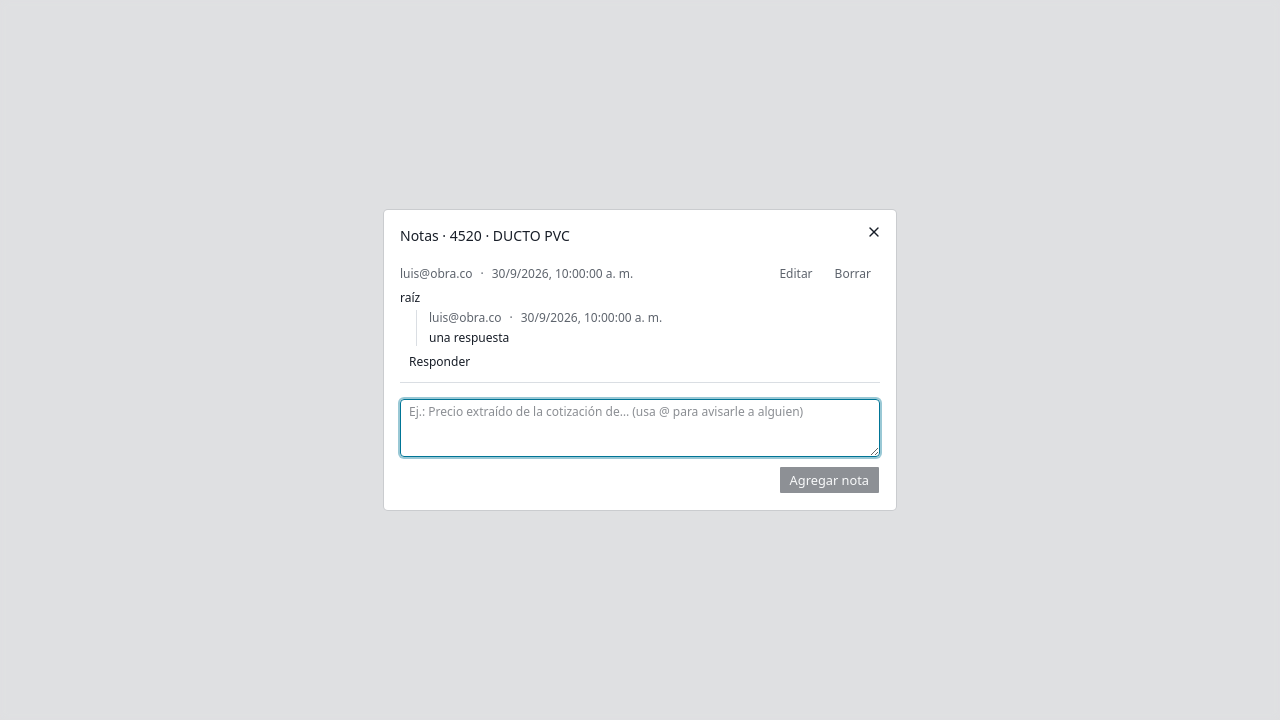
Test: DialogoNotas › muestra las respuestas bajo su nota y permite responder
Expected: the text "una respuesta" is shown, [429, 329, 509, 346]
Click the button "Responder" at (440, 362), box [400, 350, 479, 374]
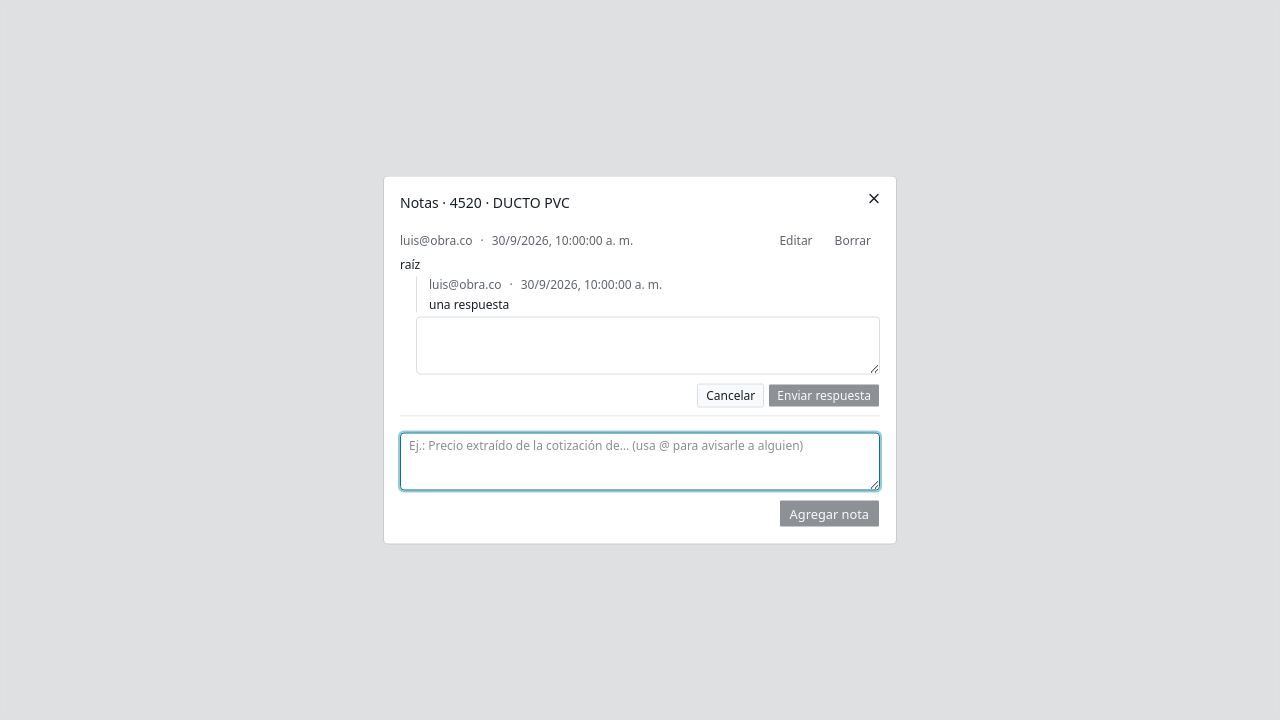
Type "otra respuesta" into the text box named "Responder nota" at (648, 346), box [416, 316, 880, 374]
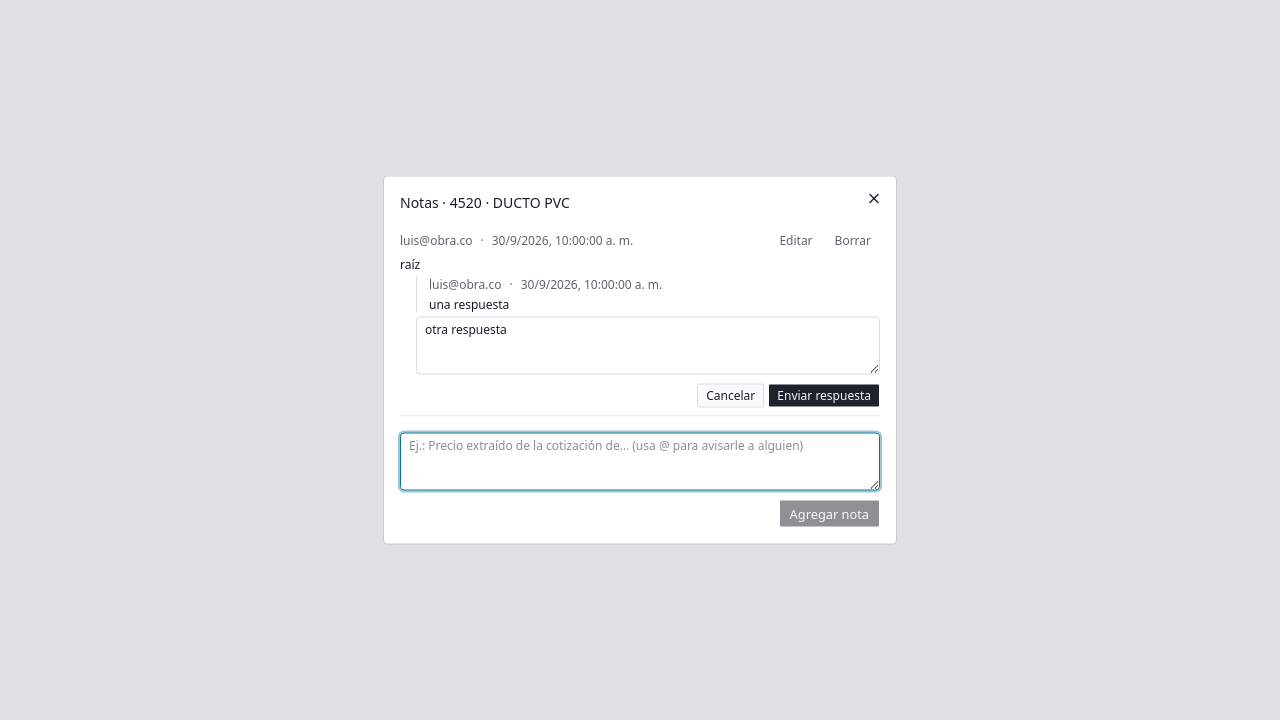
Click the button "Enviar respuesta" at (824, 396), box [768, 384, 880, 408]
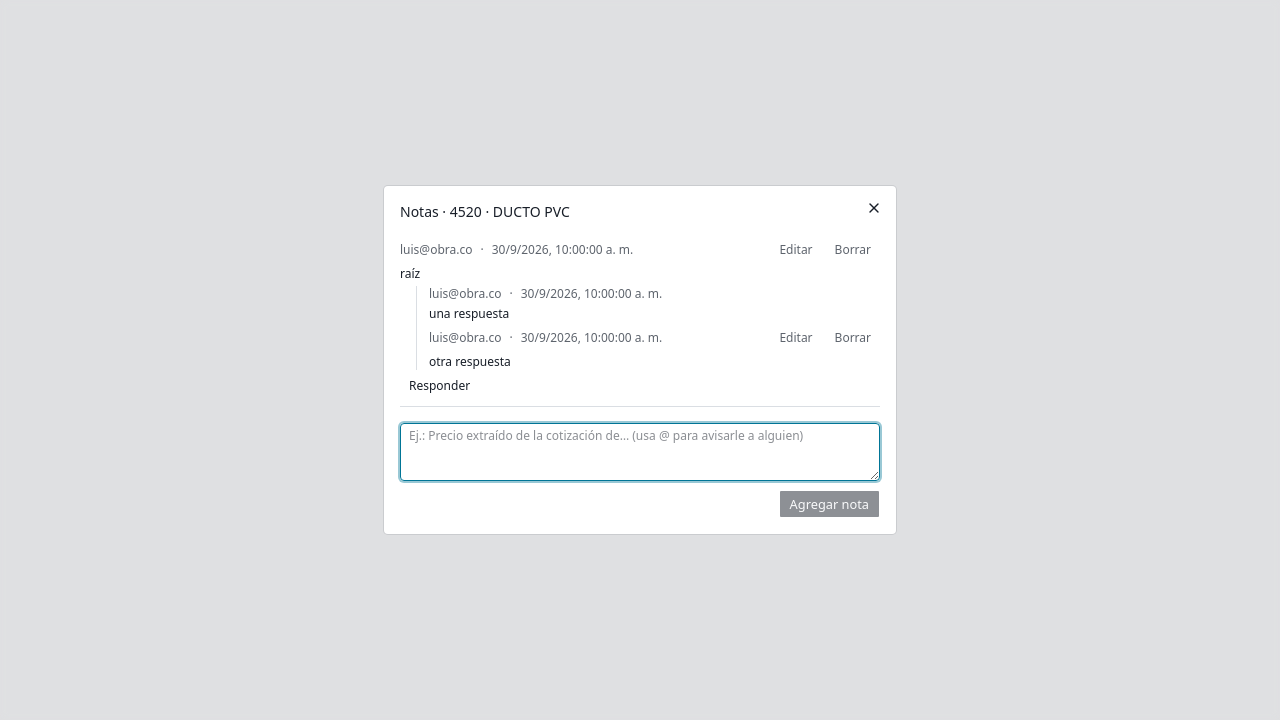
Expected: the text "otra respuesta" is shown, [429, 353, 511, 370]
